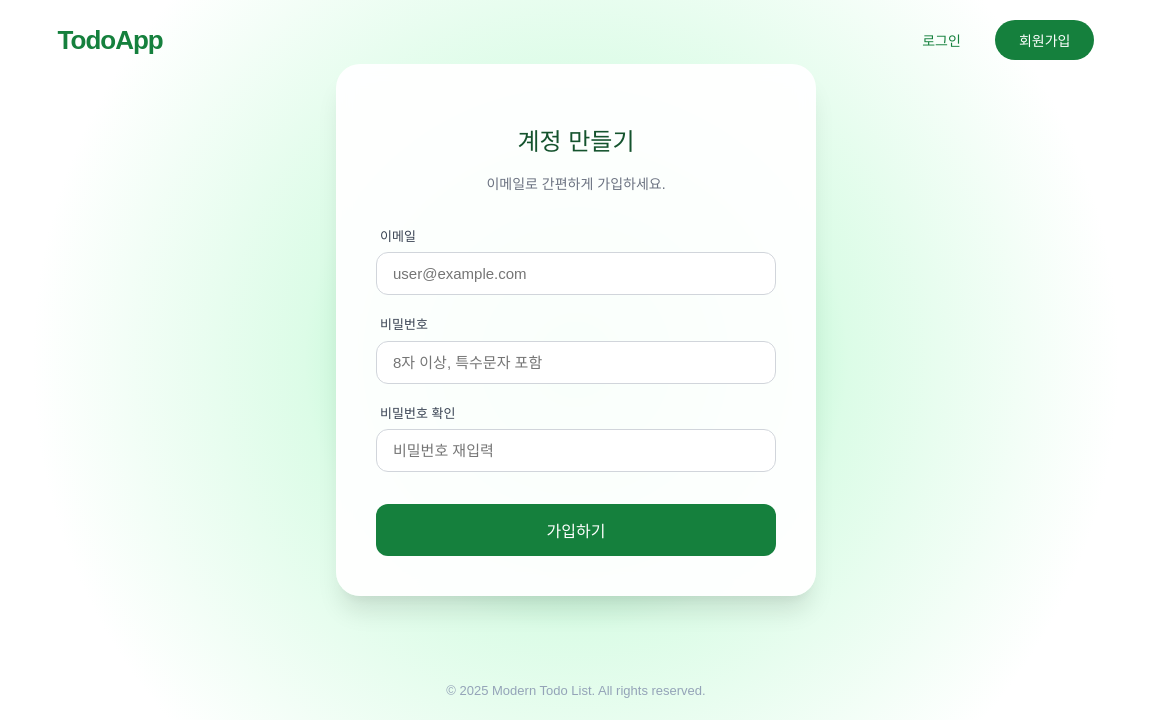
it: SignupPage 테스트 › 비밀번호가 서로 일치하지 않으면 에러 메시지가 나와야 한다
 비밀번호 입력
Type "password!123" into the password field with placeholder "8자 이상, 특수문자 포함". click: (576, 362)
box: [376,341,776,384]
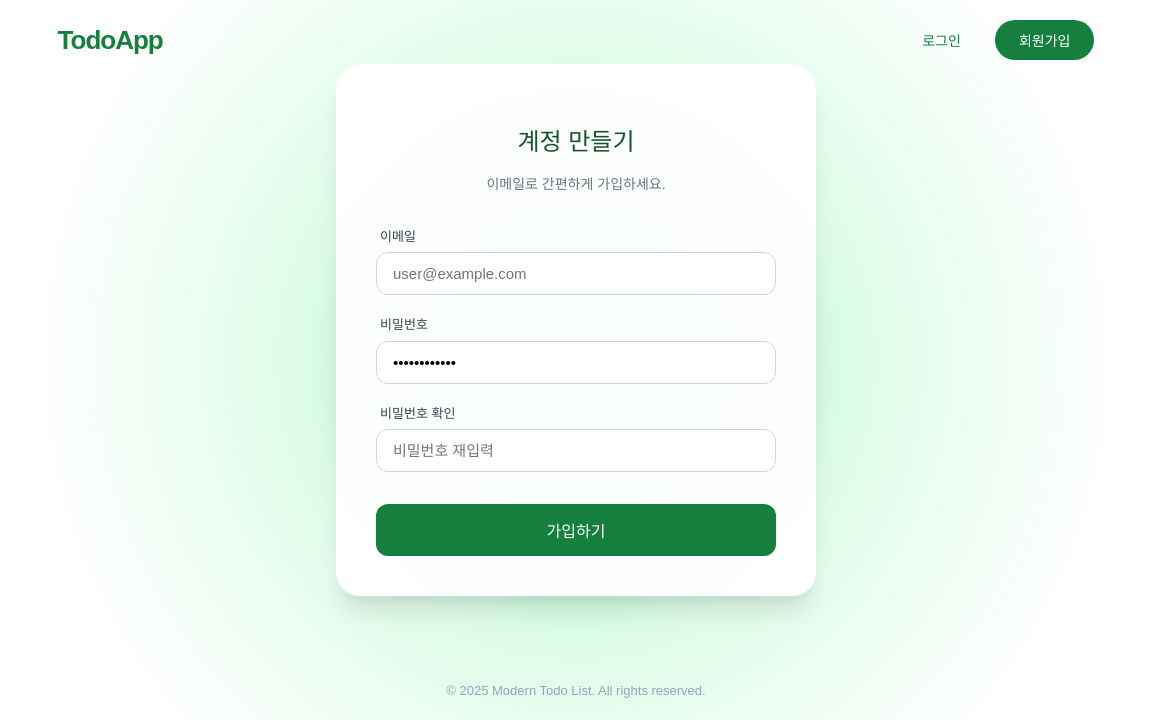
확인 비밀번호 다르게 입력
Type "different!123" into the password field with placeholder "비밀번호 재입력". click: (576, 451)
box: [376,430,776,472]
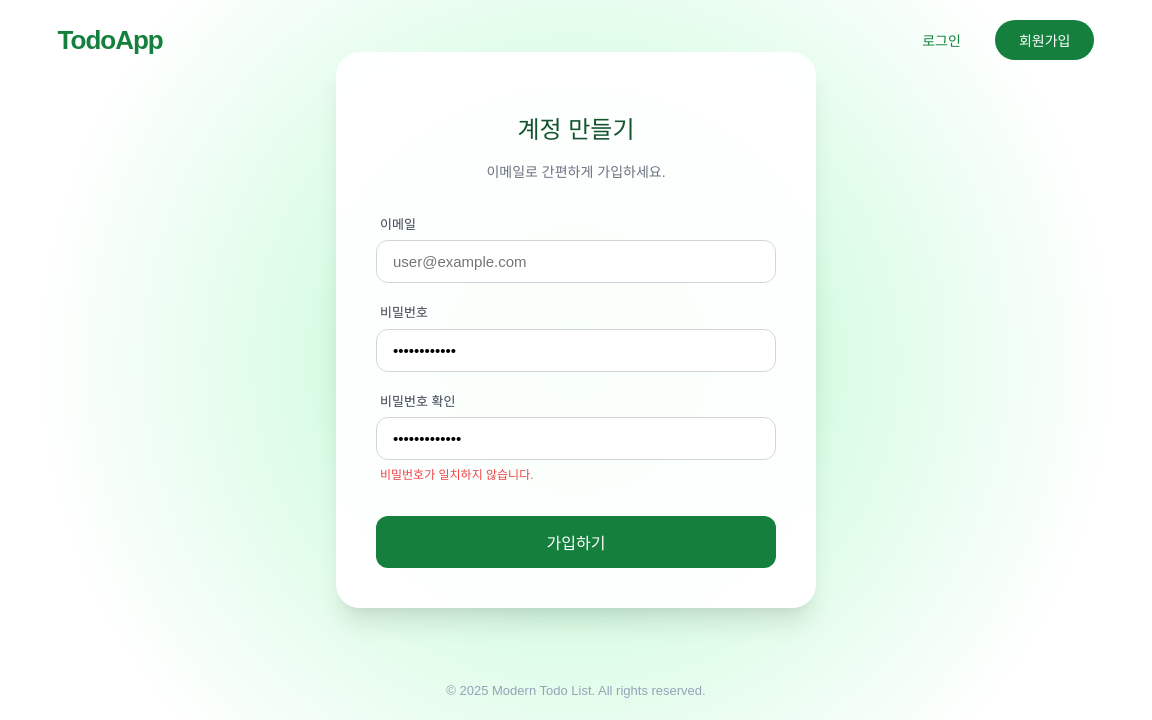
Expected: the text "비밀번호가 일치하지 않습니다." is shown, [380,468,534,482]
